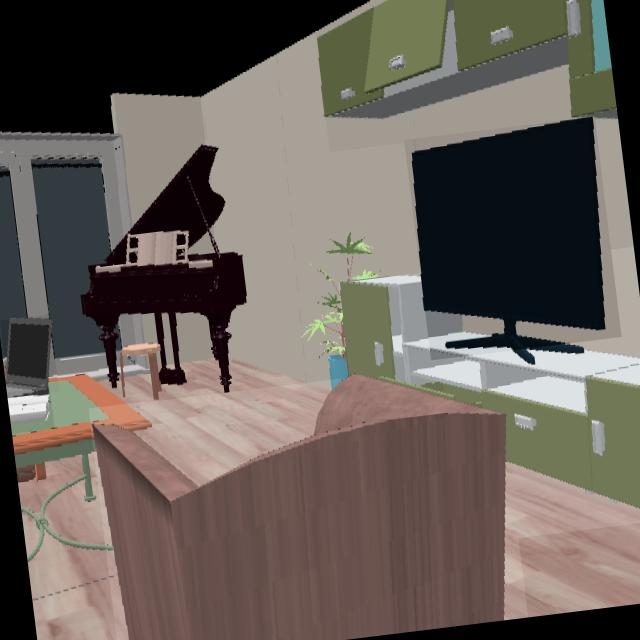book: (7, 391, 52, 433)
cabinet: (339, 277, 640, 510), (317, 0, 617, 118)
laptop: (7, 319, 51, 396)
monitor: (411, 119, 610, 343)
sofa: (95, 377, 507, 640)
table: (9, 375, 150, 450)
